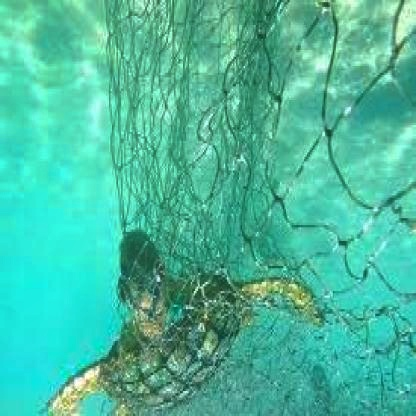net: (115, 2, 416, 416)
